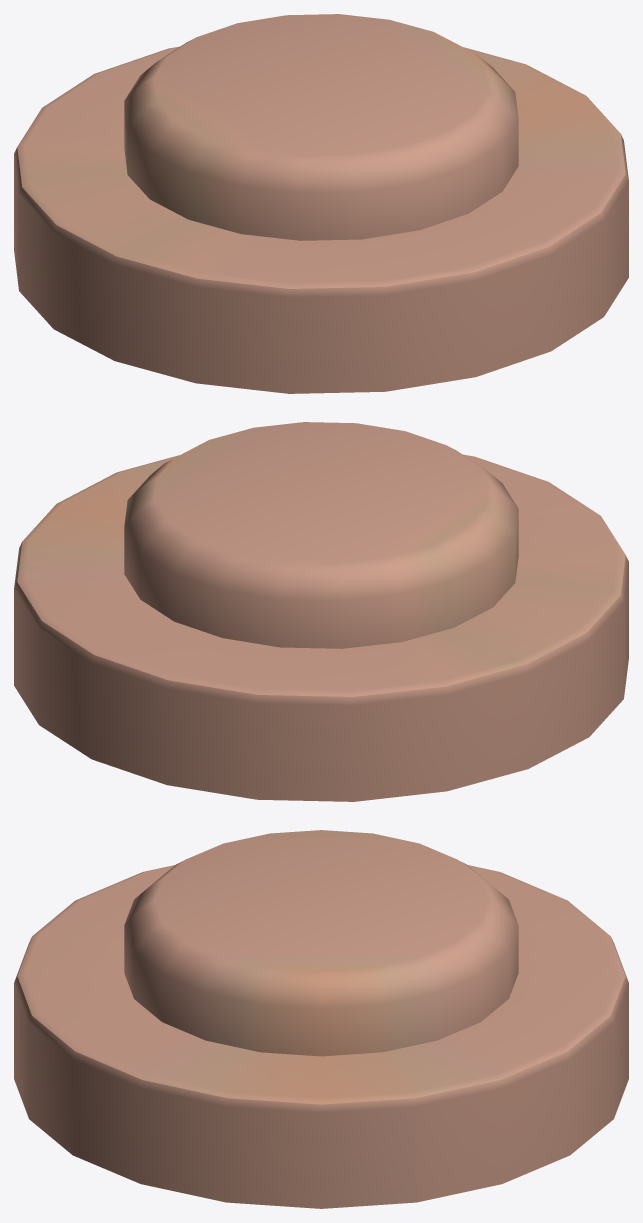
File: Centro.fbx
The picture shows the model from 3 angles, top to bottom: view 1: azimuth 30°, elevation 25°; view 2: azimuth 150°, elevation 25°; view 3: azimuth 270°, elevation 25°; orthographic projection.
Visible parts, largest first — view 1: Adorno_REDONDO; view 2: Adorno_REDONDO; view 3: Adorno_REDONDO.
Boxes of the visible parts, <box> form: Adorno_REDONDO: <box>14,14,628,393</box>; Adorno_REDONDO: <box>14,422,628,801</box>; Adorno_REDONDO: <box>14,830,628,1208</box>.
Size of the model in its own units: 167 by 53.53 by 167.
